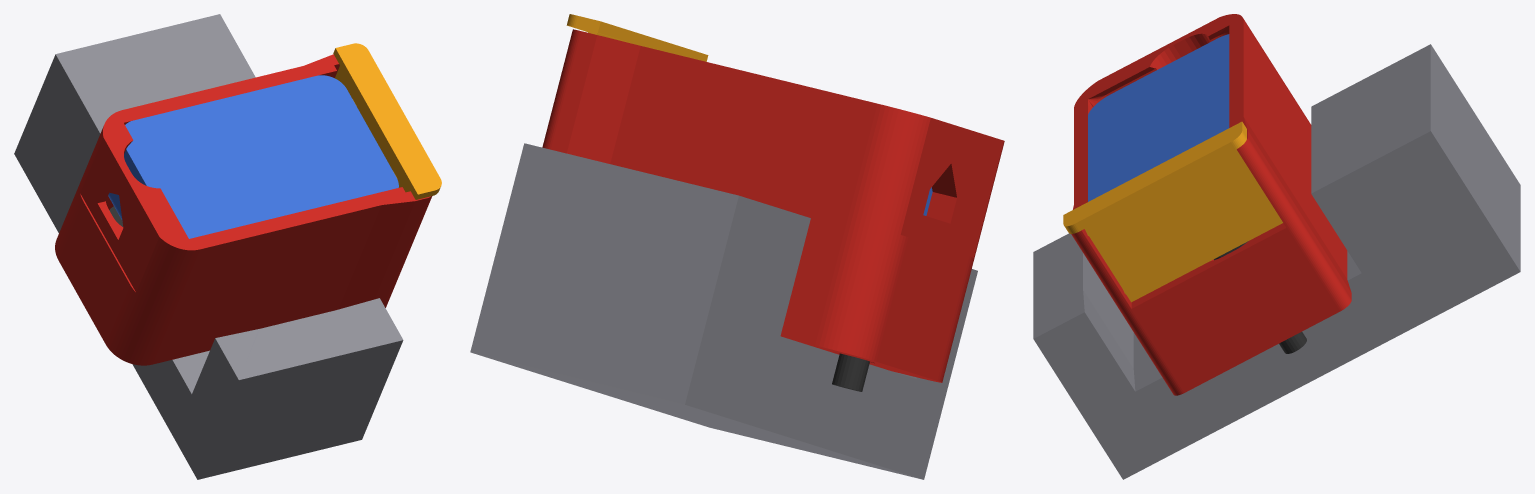
The model's file is dragy_assembly_v10.obj.
The picture shows the model from 3 angles, left to right: view 1: azimuth 30°, elevation 25°; view 2: azimuth 150°, elevation 25°; view 3: azimuth 270°, elevation 25°; orthographic projection. The views are drawn at different scales.
Visible parts, largest first — view 1: front_swingarm_pad_schematic, dragy_holder, dragy, gate; view 2: front_swingarm_pad_schematic, dragy_holder, gate, screws; view 3: front_swingarm_pad_schematic, dragy_holder, gate, dragy.
Part boxes in pixels (x1,y1,x2,y2): front_swingarm_pad_schematic: (14,14,403,479); dragy_holder: (55,54,432,365); dragy: (108,75,398,238); gate: (333,43,441,199); front_swingarm_pad_schematic: (470,143,977,479); dragy_holder: (542,29,1004,382); gate: (566,14,708,61); screws: (832,353,869,391); front_swingarm_pad_schematic: (1033,44,1520,479); dragy_holder: (1071,14,1351,395); gate: (1063,121,1282,302); dragy: (1088,34,1229,201).
Bounding box in the file's own units: 52.2 × 63.24 × 74.76.
